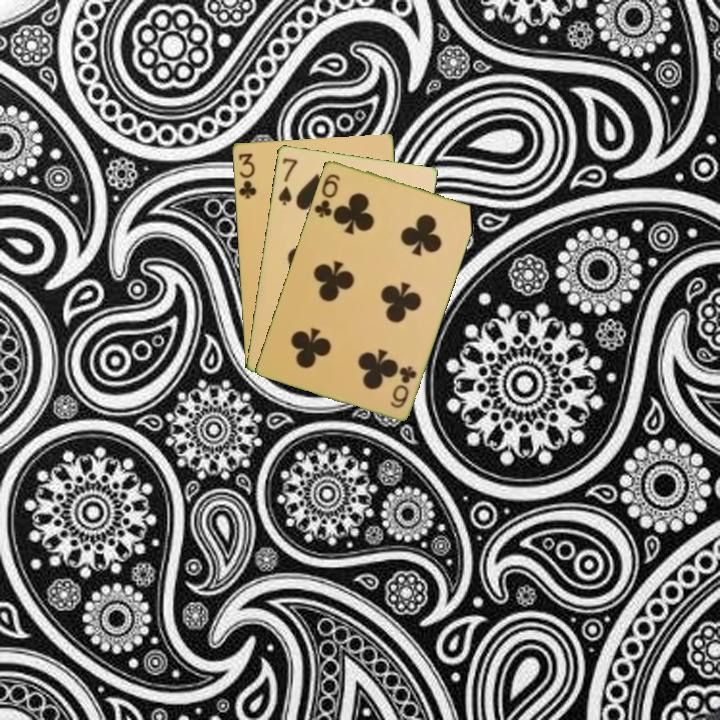3c: (234, 149, 259, 201)
6c: (310, 170, 343, 220), (387, 362, 420, 411)
7s: (275, 154, 300, 208)
